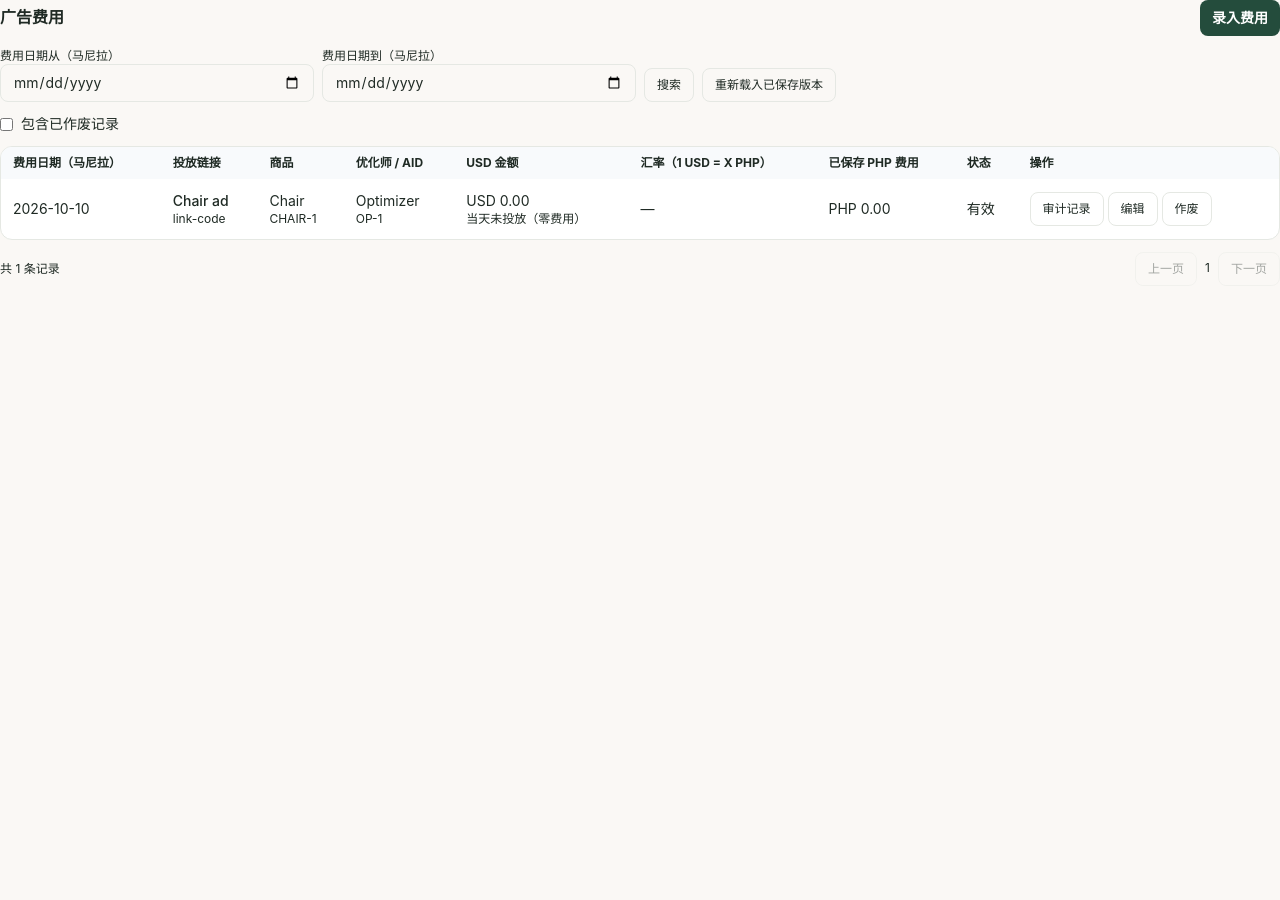
advertising expense workbench › shows server-saved zero/FX values and authentic audit snapshots rather than invented cost totals
The image size is (1280, 900).
Expected: the text "Chair ad" is shown, [173, 192, 229, 209]
Expected: the text "USD 0.00" is shown, [466, 192, 530, 209]
Click the button "审计记录": click(1067, 209) [1030, 192, 1104, 226]
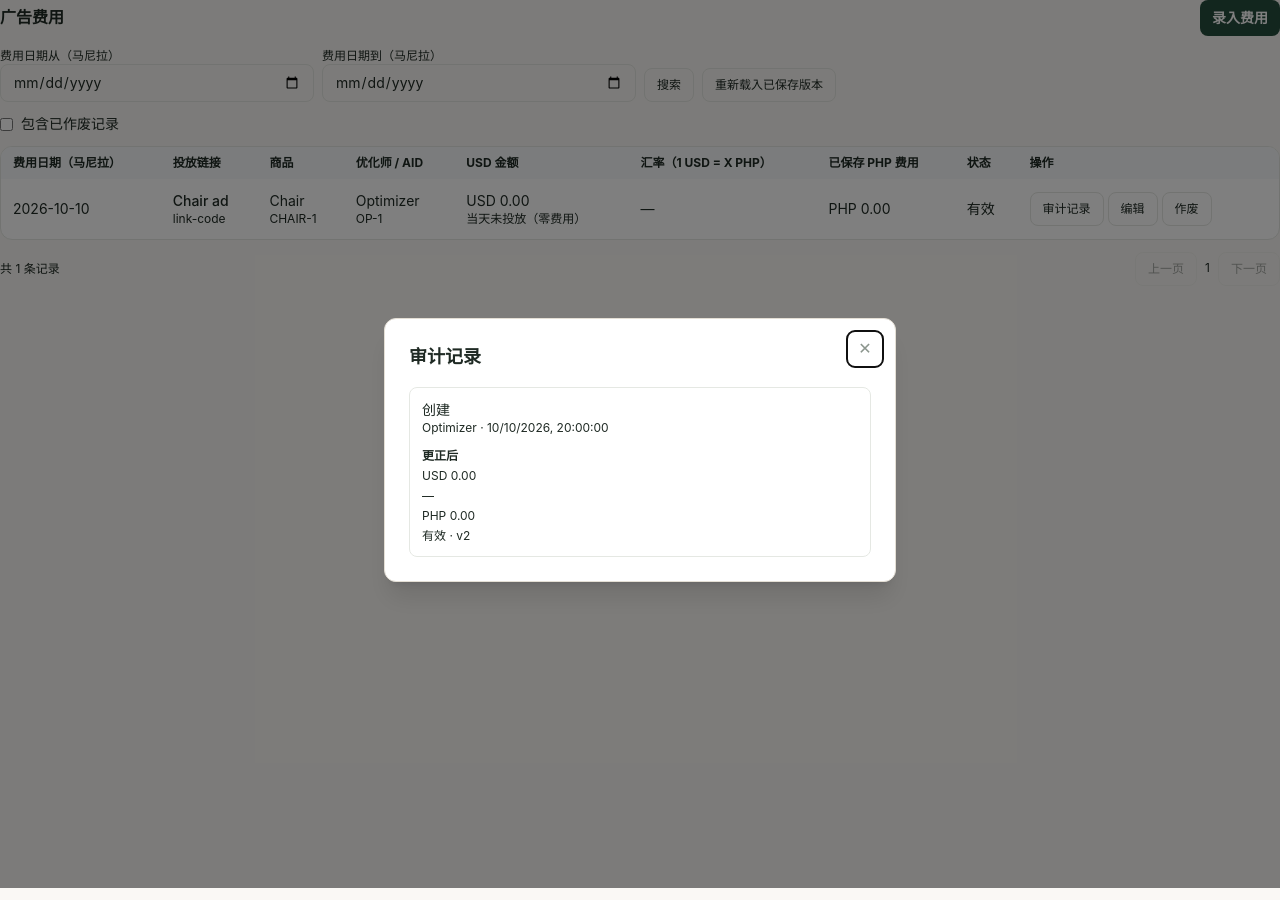
Expected: the text "创建" is shown, [422, 401, 450, 418]
Expected: the text "PHP 0.00" is shown, [422, 508, 475, 523]
